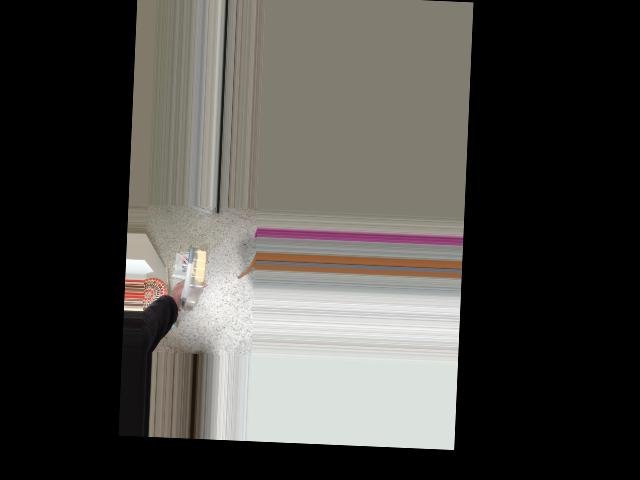cheese: (147, 244, 224, 299)
